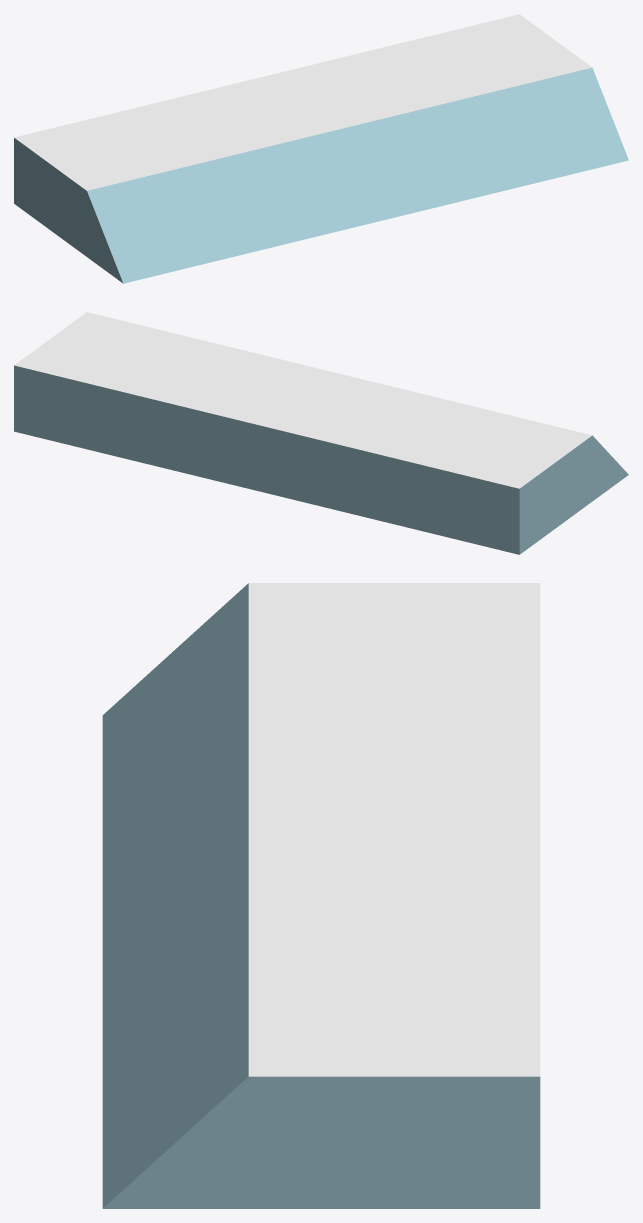
The model's file is Terrain_Tile_Ice_Snow_Ledge_04.fbx.
3 views of the same model, one above another, from view 1: azimuth 30°, elevation 25°; view 2: azimuth 150°, elevation 25°; view 3: azimuth 270°, elevation 25° (orthographic). The views are drawn at different scales.
Parts seen in each view (by area): view 1: Terrain_Tile_Ice_Snow_Ledge_04; view 2: Terrain_Tile_Ice_Snow_Ledge_04; view 3: Terrain_Tile_Ice_Snow_Ledge_04.
Part boxes in pixels (<box>): Terrain_Tile_Ice_Snow_Ledge_04: <box>14,14,628,283</box>; Terrain_Tile_Ice_Snow_Ledge_04: <box>14,312,628,554</box>; Terrain_Tile_Ice_Snow_Ledge_04: <box>102,583,540,1208</box>.
Size of the model in its own units: 126 by 15.75 by 47.24.
